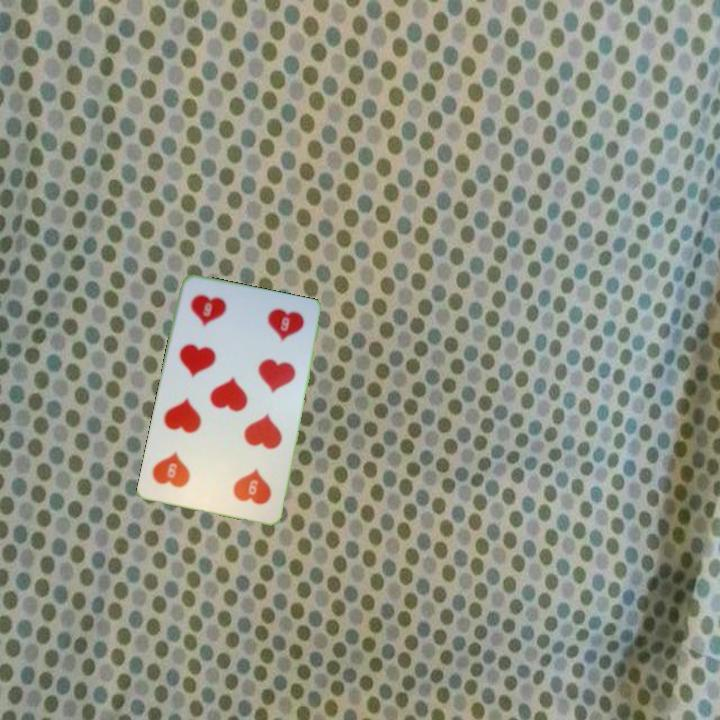h_9.png: (178, 283, 254, 353), (206, 446, 283, 515)
